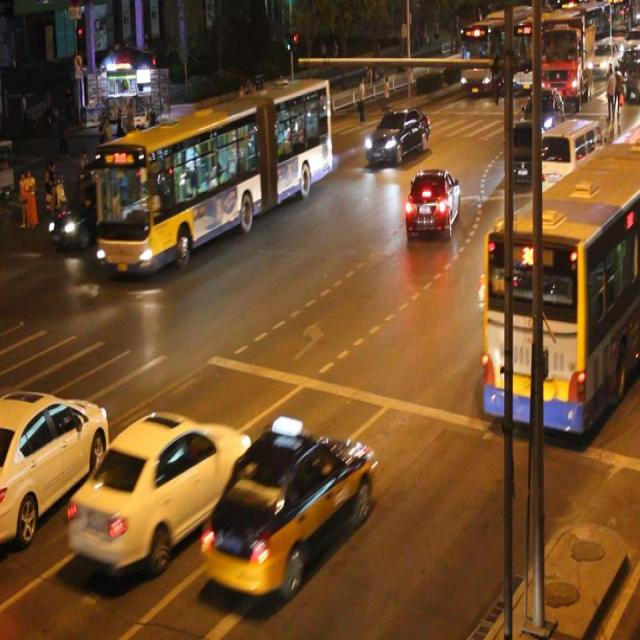car: (67, 408, 250, 564), (200, 428, 373, 592), (1, 387, 110, 536), (48, 180, 128, 250), (404, 164, 460, 239), (364, 107, 429, 164), (503, 120, 544, 186)
truck: (533, 117, 599, 205)
van: (486, 148, 640, 433), (98, 80, 328, 264)
